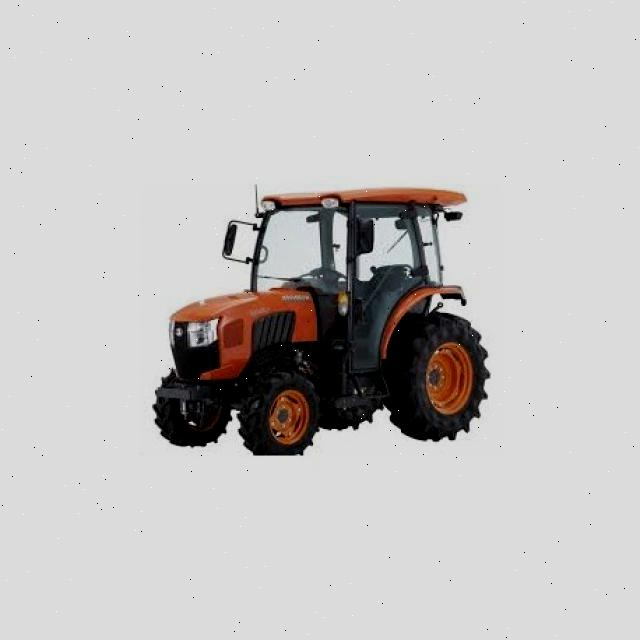Tratores - v5 YOLO V8L 2024-11-13: (150, 175, 522, 458)
